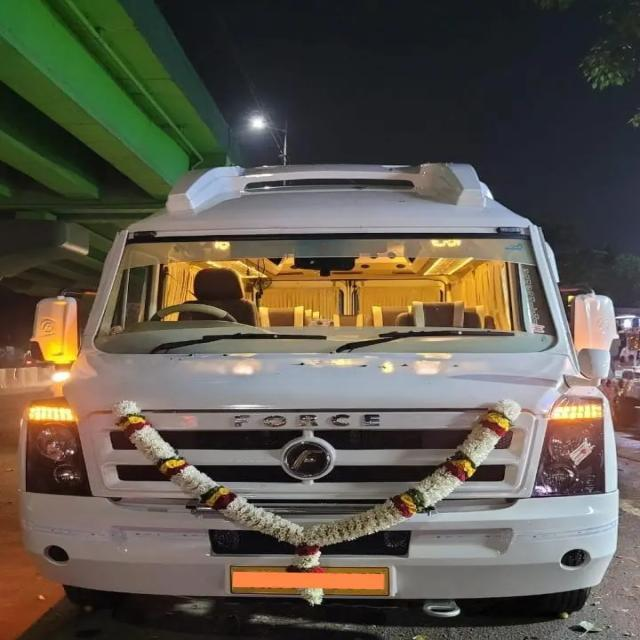van: (13, 158, 625, 622), (1, 419, 638, 639), (111, 398, 523, 551)
